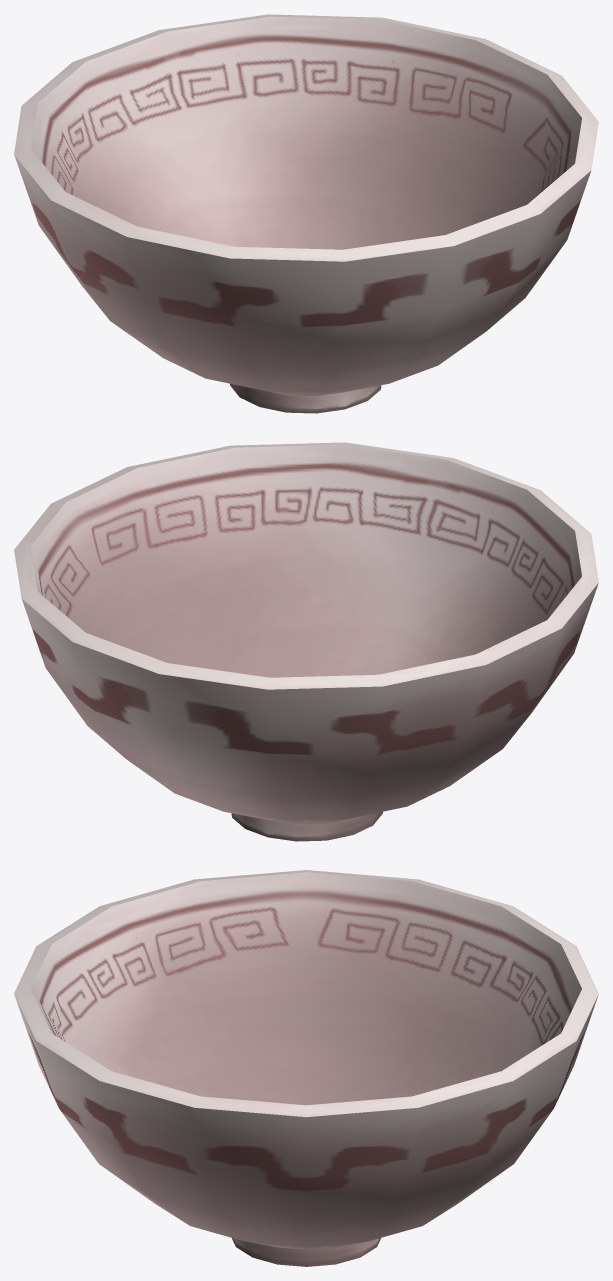
File: ramenbowl.fbx
3 renders of one model, top to bottom at view 1: azimuth 30°, elevation 25°; view 2: azimuth 150°, elevation 25°; view 3: azimuth 270°, elevation 25°, orthographic.
Parts seen in each view (by area): view 1: ramenbowl; view 2: ramenbowl; view 3: ramenbowl.
Boxes of the visible parts, x1,y1,x2,y2 form: ramenbowl: (14, 14, 598, 413); ramenbowl: (14, 442, 598, 841); ramenbowl: (14, 870, 598, 1266).
Bounding box in the file's own units: 35.33 × 16.39 × 35.33.
